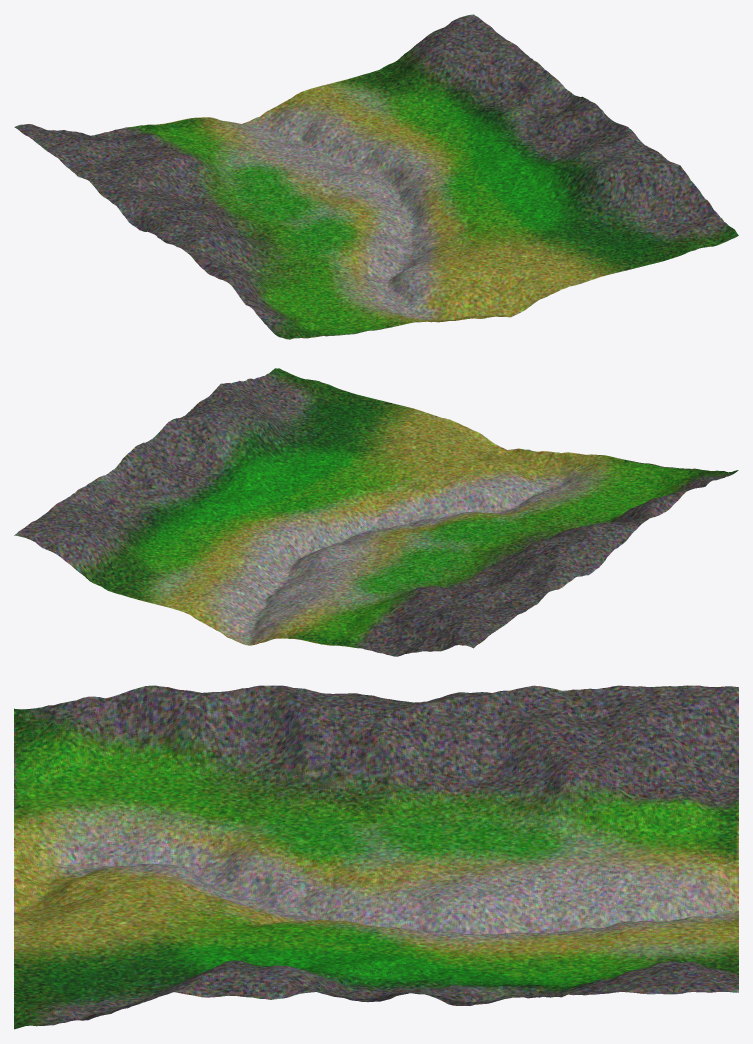
3 views of the same model, one above another, from view 1: azimuth 30°, elevation 25°; view 2: azimuth 150°, elevation 25°; view 3: azimuth 270°, elevation 25° (orthographic). The views are drawn at different scales.
Parts seen in each view (by area): view 1: Landscape.001; view 2: Landscape.001; view 3: Landscape.001.
Part boxes in pixels (x1,y1,x2,y2): Landscape.001: (14, 14, 738, 339); Landscape.001: (14, 368, 738, 656); Landscape.001: (14, 685, 738, 1029).
Bounding box in the file's own units: 50 × 5.63 × 50.
Materials: 1 (1 with a texture image).
